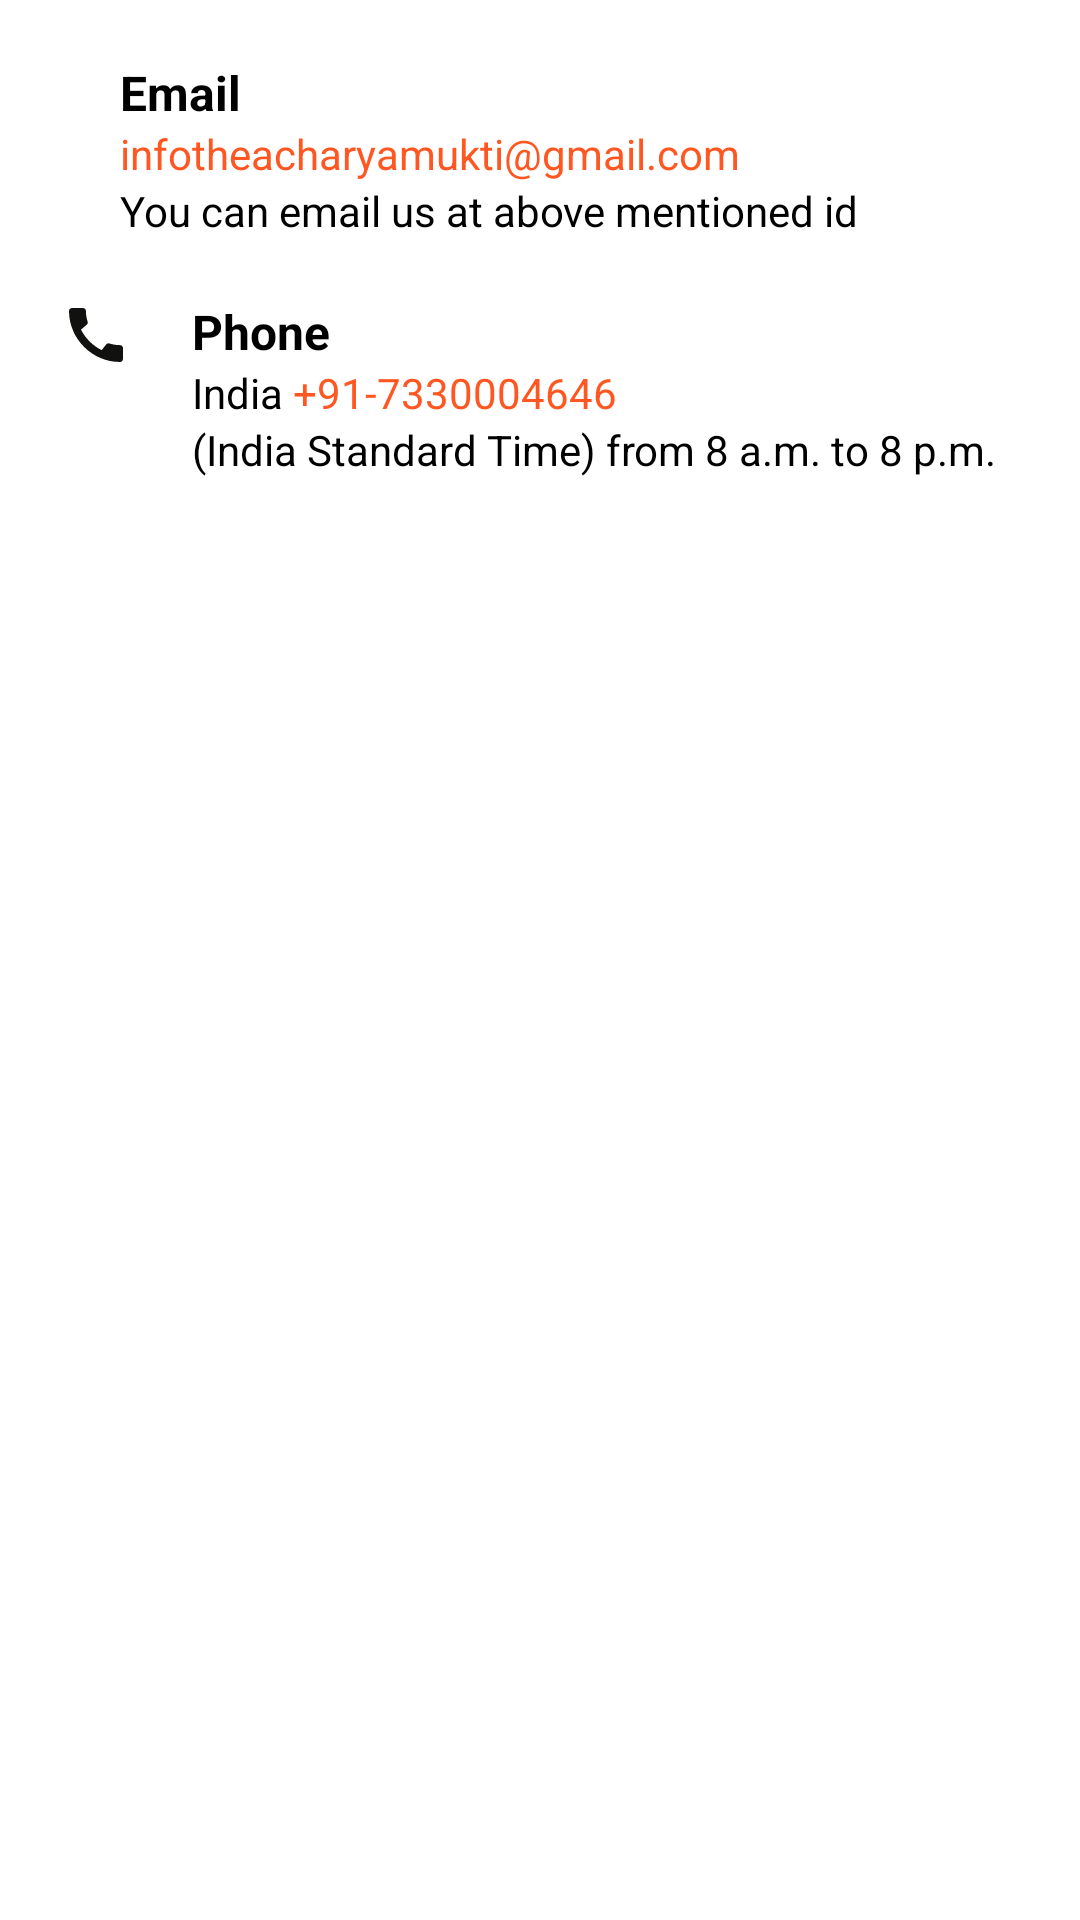

Icons on this 1080*1920 Android screen, each with its box as box=[x1, y1, x2, y2]:
call: box=[69, 308, 123, 362]
